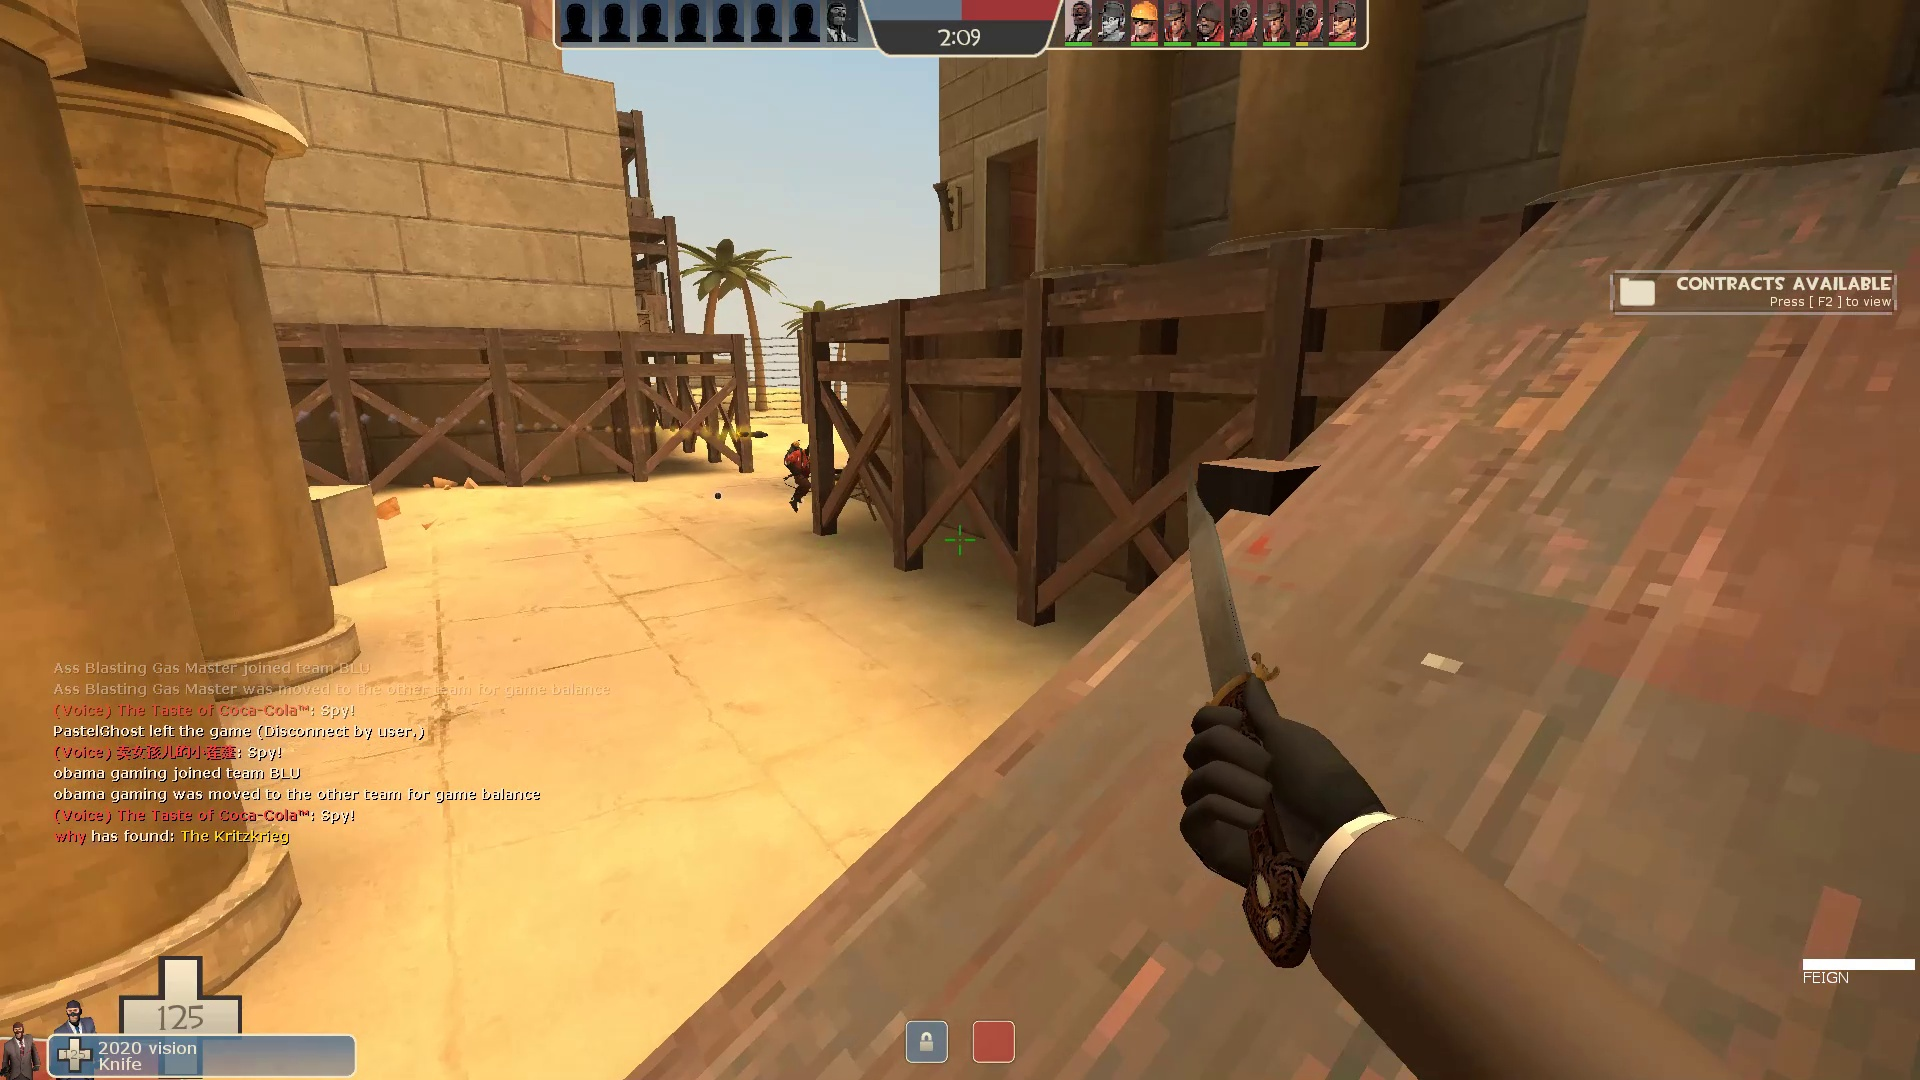red_pyro: (781, 436, 855, 516)
